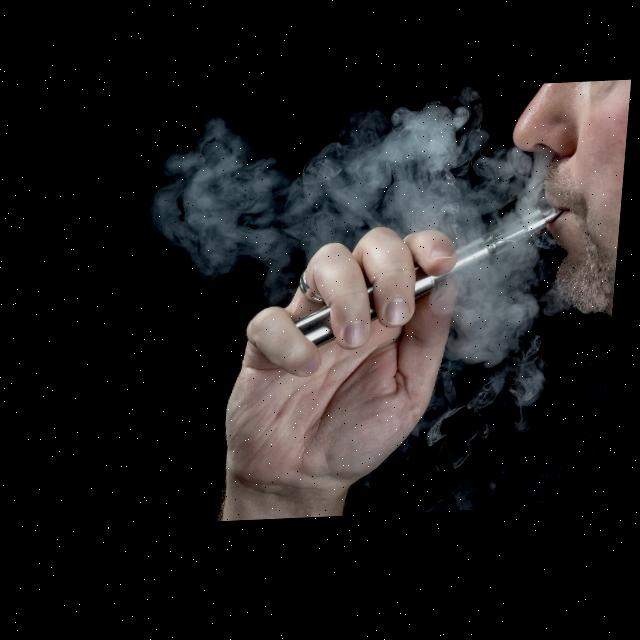vape: (297, 207, 569, 352)
